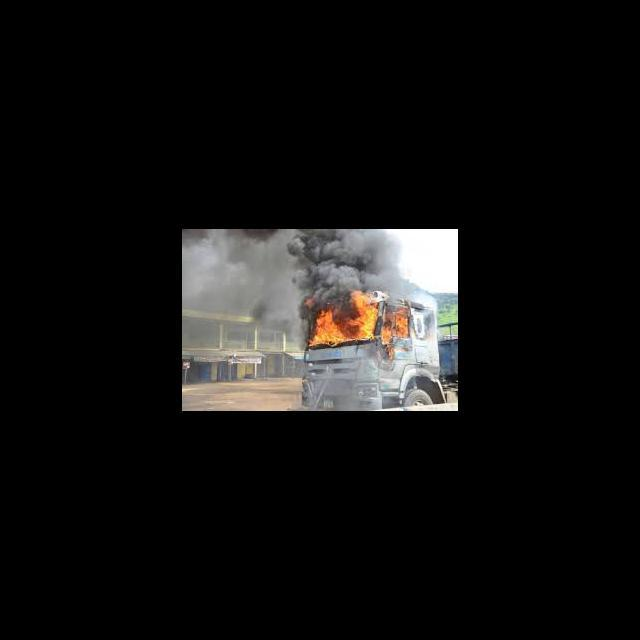Fire: (305, 294, 410, 355)
Smoke: (182, 230, 303, 354), (291, 229, 412, 293)
